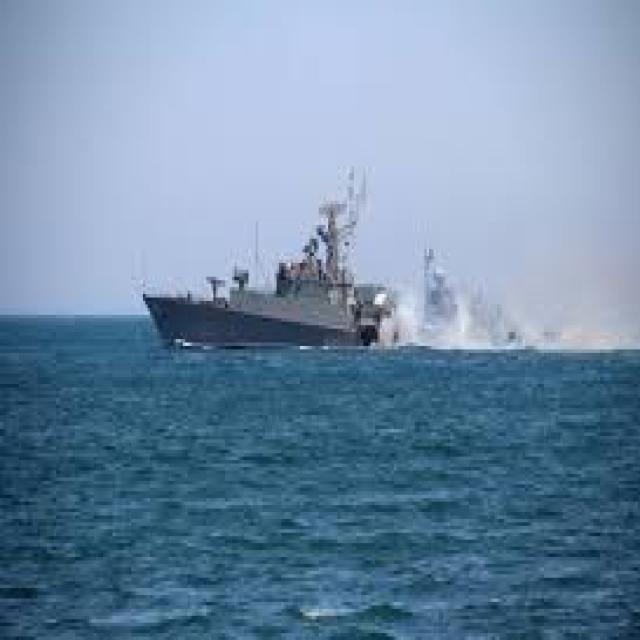navalvessels: (130, 174, 490, 361)
